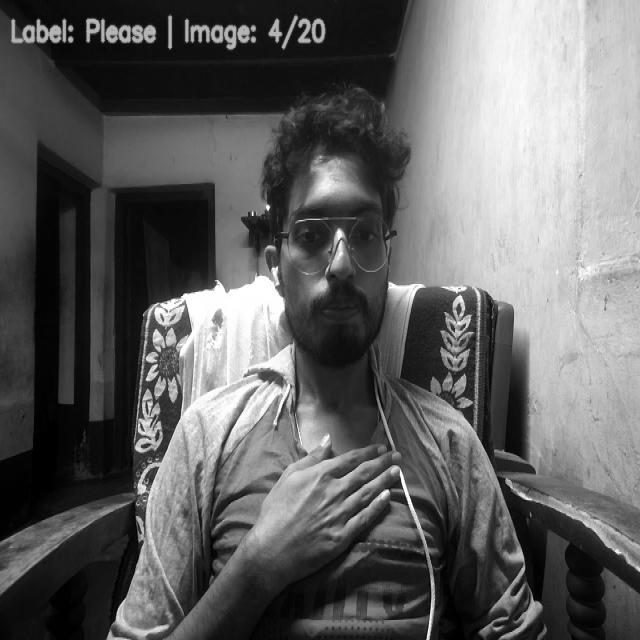Please: (245, 431, 405, 609)
